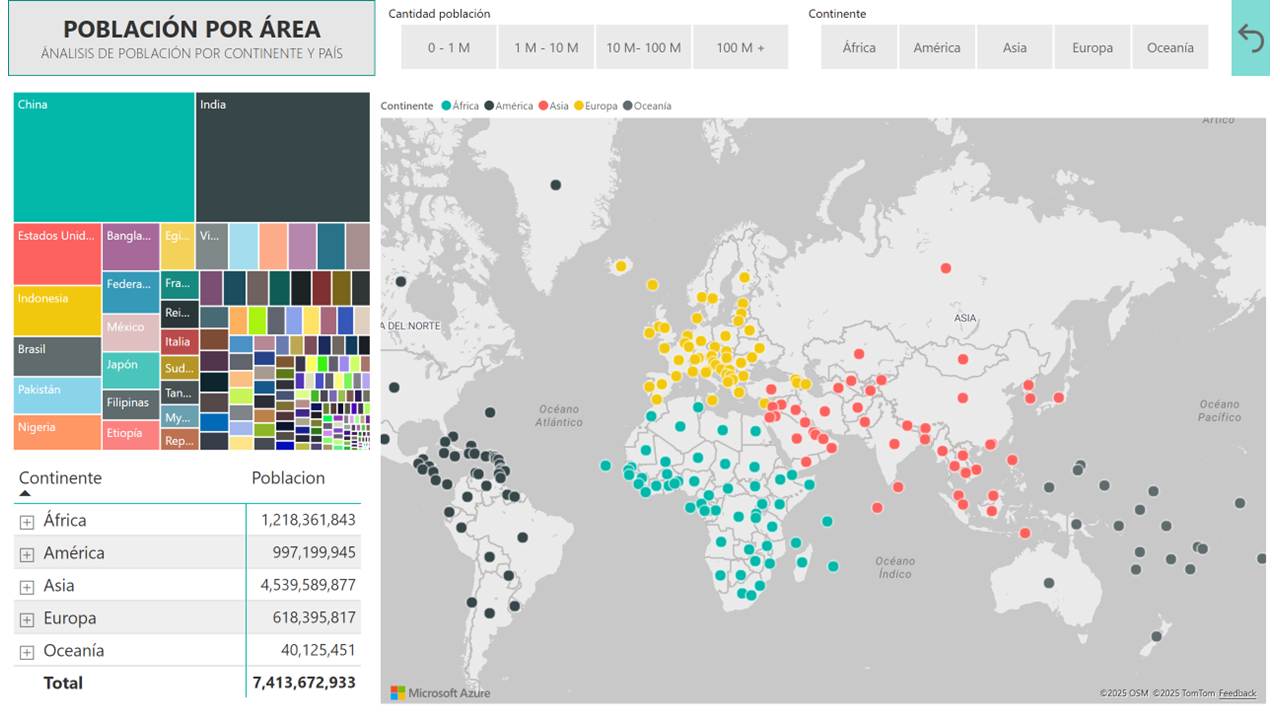

The dashboard page shown, as its layout file describes it:
{"tool":"powerbi","page":{"name":"Población por Área","canvas":[1280,720],"ordinal":0},"visuals":[{"type":"slicer","fields":{"Values":["Paises.Continente"]},"box":[798.2,0,442.6,77.1],"z":0,"group":"g1"},{"type":"treemap","fields":{"Group":["Paises.Pais"],"Values":["Sum(Poblacion.Population)"]},"box":[0,88,372.7,373.9],"z":0},{"type":"group","id":"g1","title":"Grupo 1","box":[372.7,0,868.3,77.2],"z":1000},{"type":"slicer","fields":{"Values":["Poblacion.Cantidad población"]},"box":[372.7,0,442.6,77.1],"z":1000,"group":"g1"},{"type":"azureMap","fields":{"Category":["Paises.Pais"],"Series":["Paises.Continente"]},"box":[372.7,88,908.1,630.8],"z":2000},{"type":"pivotTable","fields":{"Rows":["Paises.Continente","Paises.Pais"],"Values":["Sum(Poblacion.Poblacion)"]},"box":[0,461.9,372.7,258.1],"z":3000},{"type":"actionButton","box":[1241,0,39.8,77.2],"z":4000},{"type":"shape","box":[0,0,372.7,77.2],"z":5000},{"type":"textbox","box":[10.9,7.2,351,69.9],"z":6000}]}

Visuals, with their boxes in screenshot pixels (x1, y1, x2, y2), scaled from the page's 1280x720 canvas onto the 1280x720 screenshot:
slicer - Paises.Continente: <region>798, 0, 1241, 77</region>
treemap - Paises.Pais x Sum(Poblacion.Population): <region>0, 88, 373, 462</region>
"Grupo 1" group: <region>373, 0, 1241, 77</region>
slicer - Poblacion.Cantidad población: <region>373, 0, 815, 77</region>
azureMap - Paises.Pais x Paises.Continente: <region>373, 88, 1279, 719</region>
pivotTable - Paises.Continente x Paises.Pais: <region>0, 462, 373, 719</region>
actionButton: <region>1241, 0, 1279, 77</region>
shape: <region>0, 0, 373, 77</region>
textbox: <region>11, 7, 362, 77</region>
